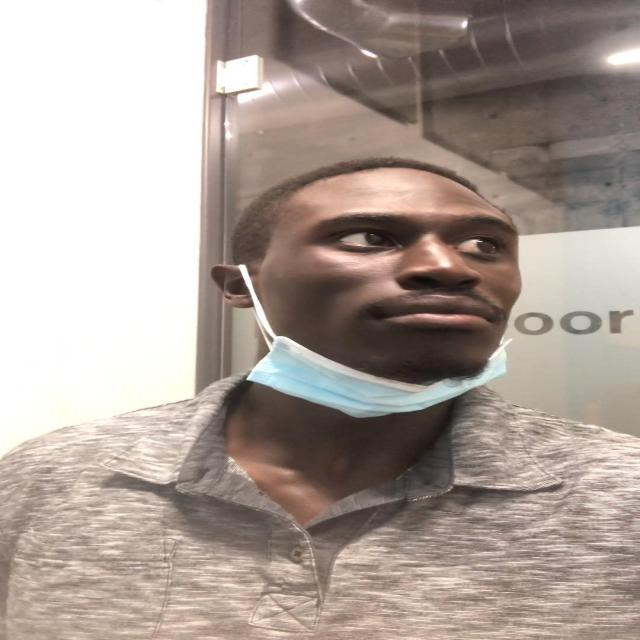face: (253, 176, 520, 380)
